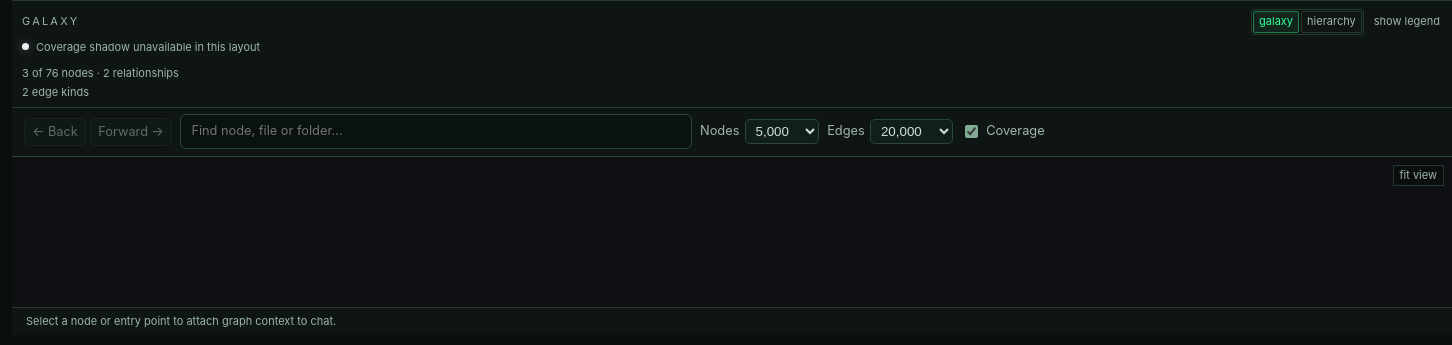
Test case: hierarchy selection regression › lets the user enter hierarchy before choosing a root and gives a next action
Click the button "hierarchy".
click(1331, 22)  # box 1301,11 -> 1362,33
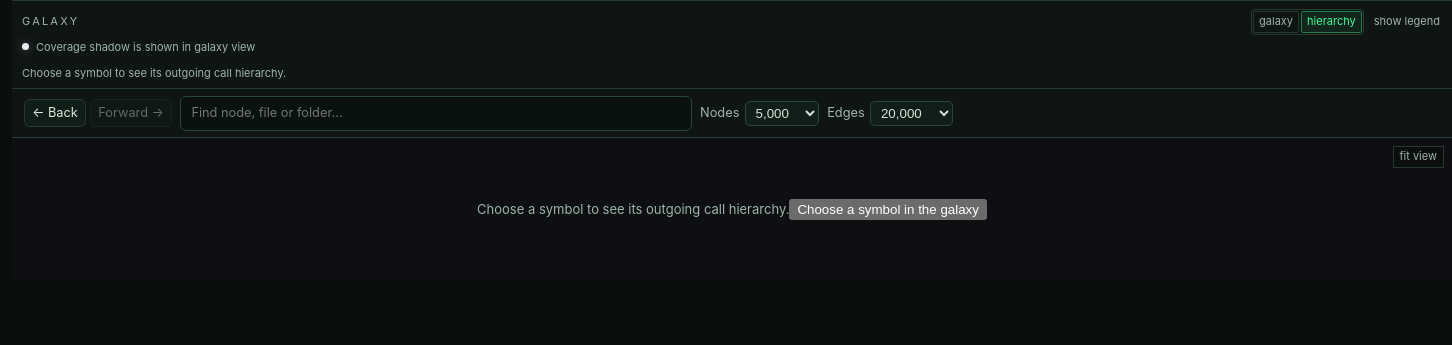
Expected: the button with test id "atlas-hierarchy-choose-root" is shown, 789,199 -> 987,220
